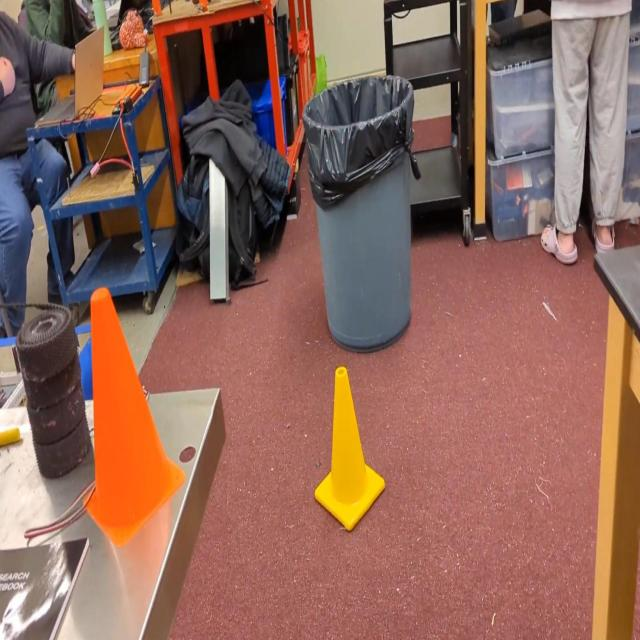frc_cone: (315, 368, 387, 528)
